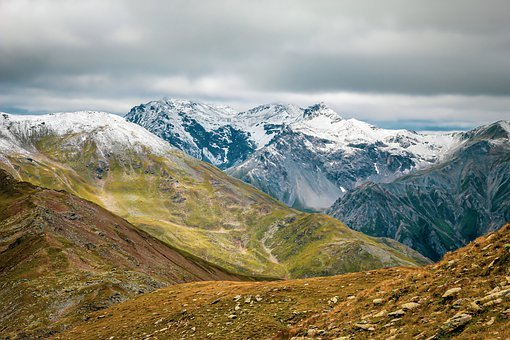mountain: (5, 94, 509, 340)
sky: (3, 2, 510, 122)
